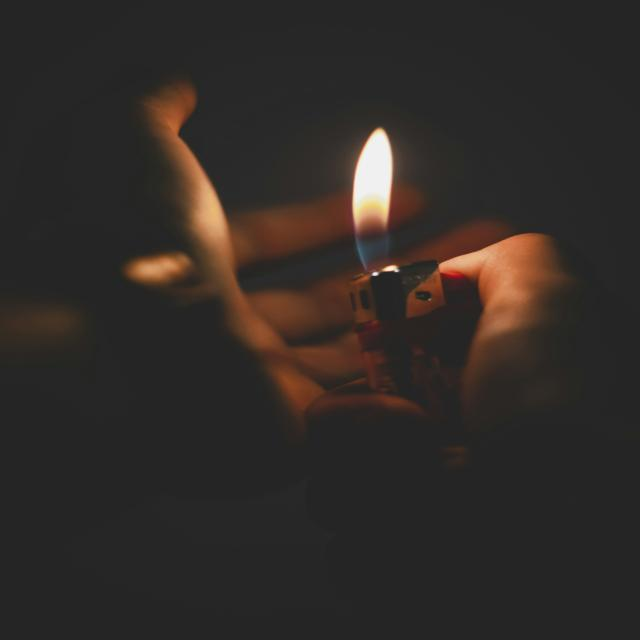fire: (351, 127, 394, 271)
